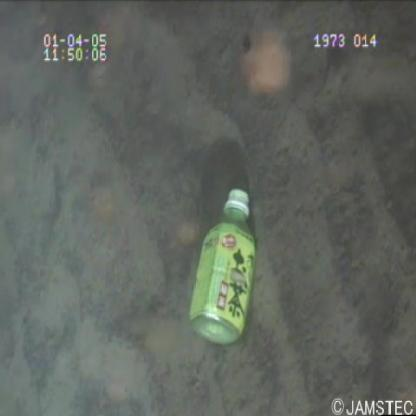Rác: (180, 180, 276, 357)
